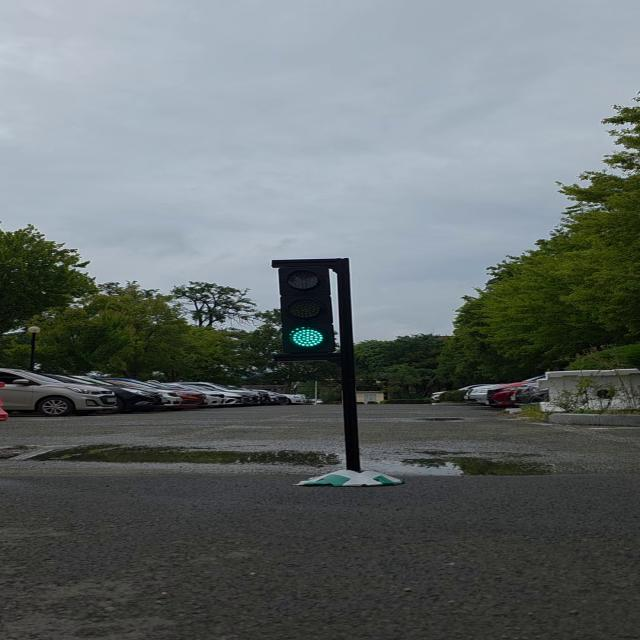green: (278, 260, 352, 360)
